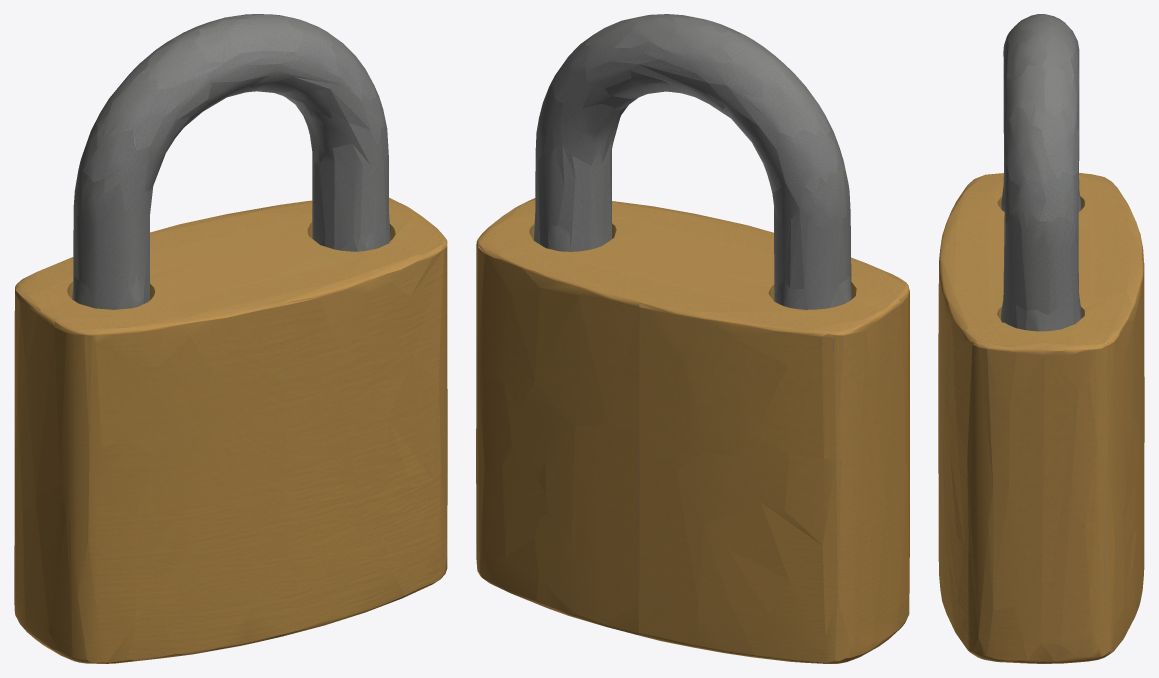
Rendered from padlock.glb.
3 views of the same model, side by side, from view 1: azimuth 30°, elevation 25°; view 2: azimuth 150°, elevation 25°; view 3: azimuth 270°, elevation 25° (orthographic). The views are drawn at different scales.
Visible parts, largest first — view 1: output_unwrapped; view 2: output_unwrapped; view 3: output_unwrapped.
Boxes of the visible parts, <box> form: output_unwrapped: <box>14,14,447,663</box>; output_unwrapped: <box>476,14,909,663</box>; output_unwrapped: <box>938,14,1144,663</box>.
Size of the model in its own units: 1.33 by 1.9 by 0.6444.
Materials: 1 (1 with a texture image).
